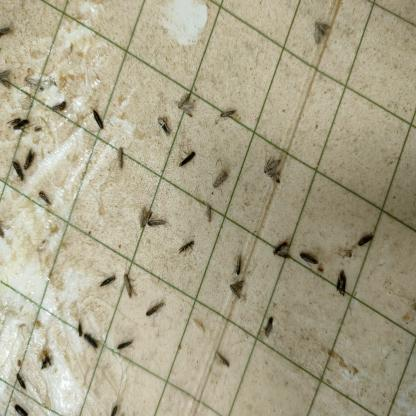prays_oleae: (223, 272, 258, 306), (143, 285, 170, 325), (260, 148, 284, 190), (295, 245, 322, 277), (148, 205, 175, 237), (310, 13, 332, 52), (173, 90, 195, 126), (208, 340, 231, 374), (174, 145, 202, 172), (119, 269, 142, 300), (334, 263, 356, 294), (262, 308, 280, 344), (81, 324, 101, 356), (355, 221, 376, 251), (271, 240, 295, 266), (176, 238, 199, 264), (212, 165, 231, 193), (115, 335, 139, 357), (136, 200, 152, 233), (212, 101, 235, 123), (101, 267, 120, 293), (24, 148, 41, 174), (0, 62, 13, 95), (91, 107, 106, 135), (8, 162, 27, 184), (155, 112, 171, 138), (36, 184, 50, 212), (11, 115, 30, 135), (16, 367, 30, 394), (0, 18, 13, 46), (113, 144, 126, 170), (52, 99, 72, 114), (203, 199, 214, 226), (12, 402, 30, 415)
